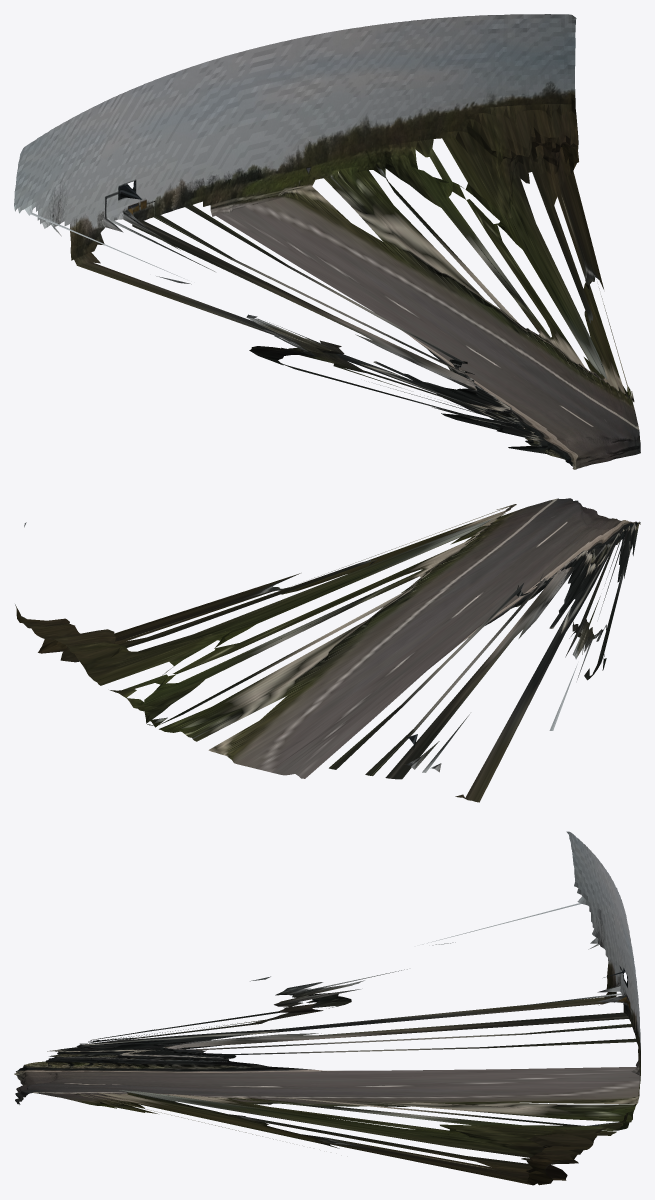
The picture shows the model from 3 angles, top to bottom: view 1: azimuth 30°, elevation 25°; view 2: azimuth 150°, elevation 25°; view 3: azimuth 270°, elevation 25°; orthographic projection. The views are drawn at different scales.
Parts seen in each view (by area): view 1: defaultobject; view 2: defaultobject; view 3: defaultobject.
Boxes of the visible parts, x1=… form: defaultobject: x1=14, y1=14, x2=640, y2=469; defaultobject: x1=15, y1=498, x2=640, y2=802; defaultobject: x1=14, y1=831, x2=640, y2=1185.
Size of the model in its own units: 41.02 by 11.74 by 44.37.
Materials: 1 (1 with a texture image).
